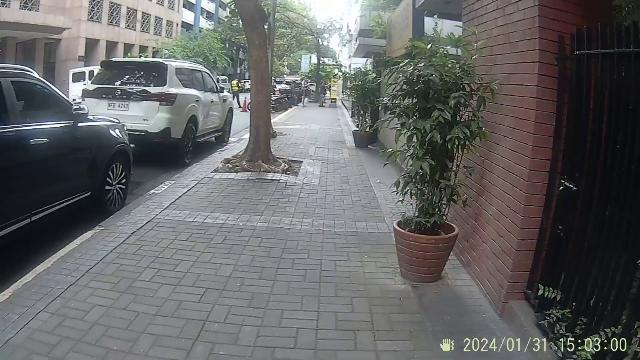potted_plant: (386, 72, 472, 288), (347, 76, 377, 150)
tree: (247, 0, 279, 170)
